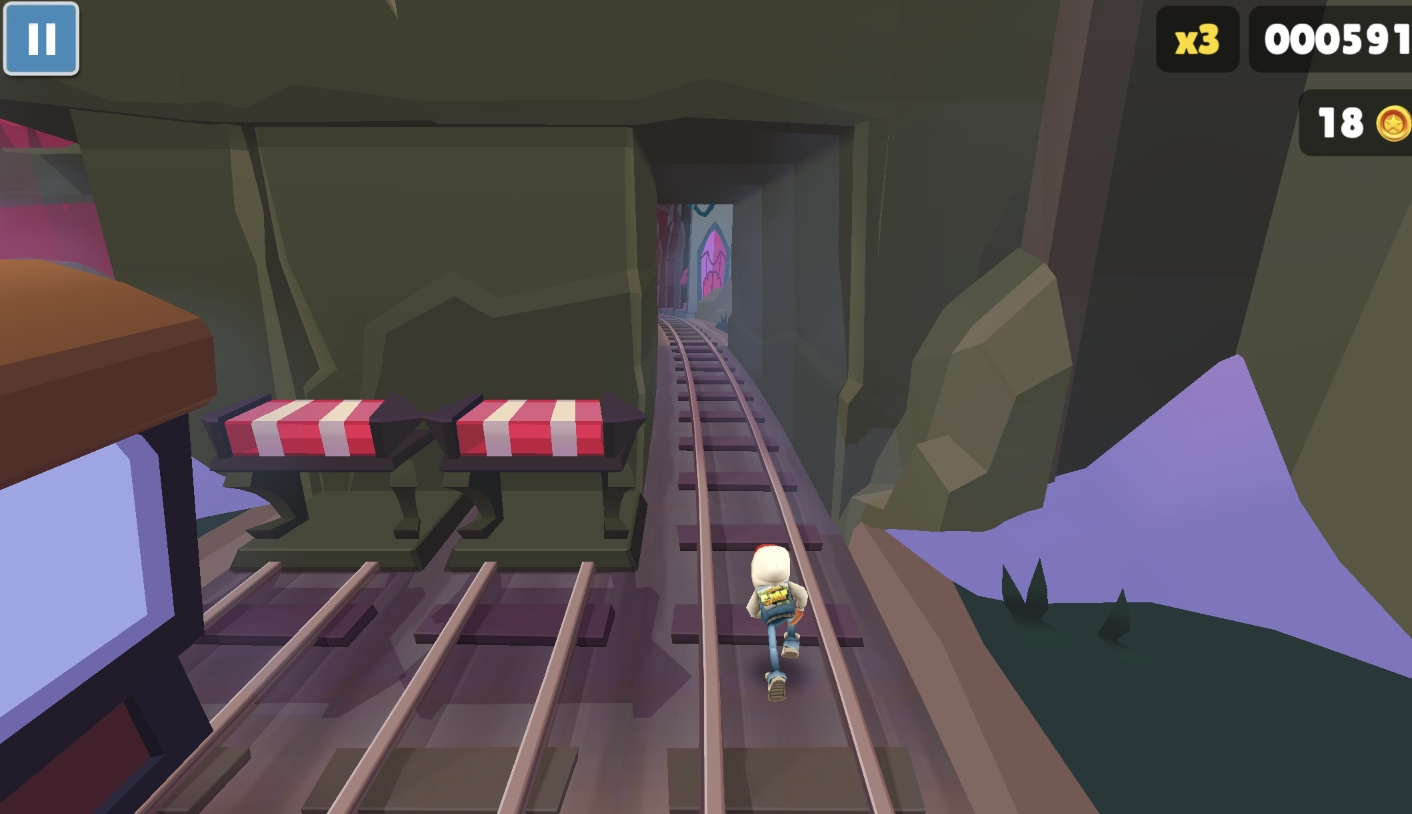ground_barrier: (209, 398, 449, 581), (447, 398, 657, 581)
train: (0, 256, 226, 814)
